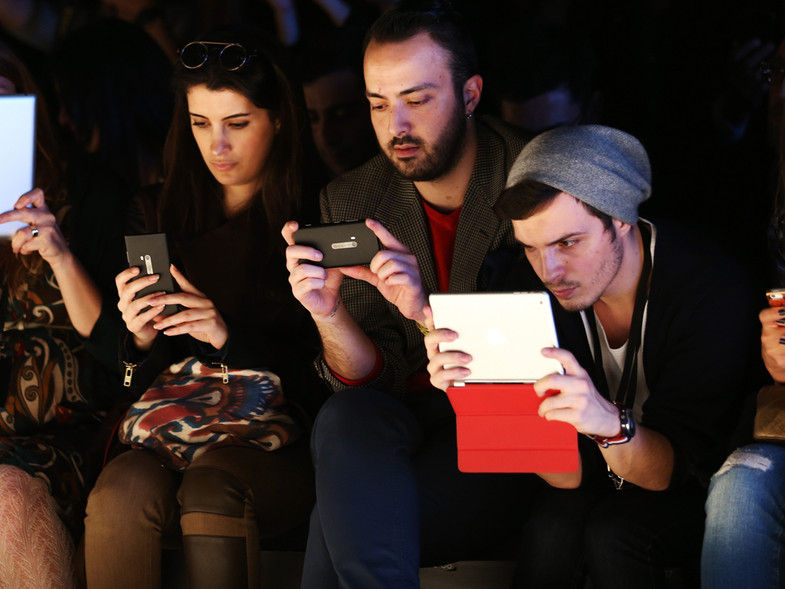person: (461, 155, 726, 439), (150, 42, 310, 300), (322, 22, 496, 247)
